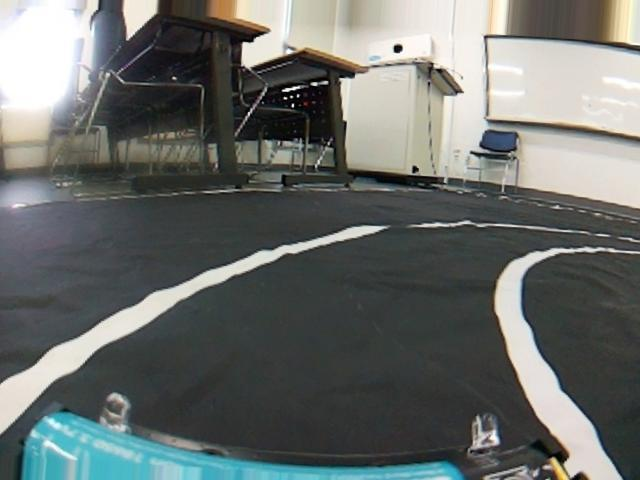right: (3, 217, 636, 480)
